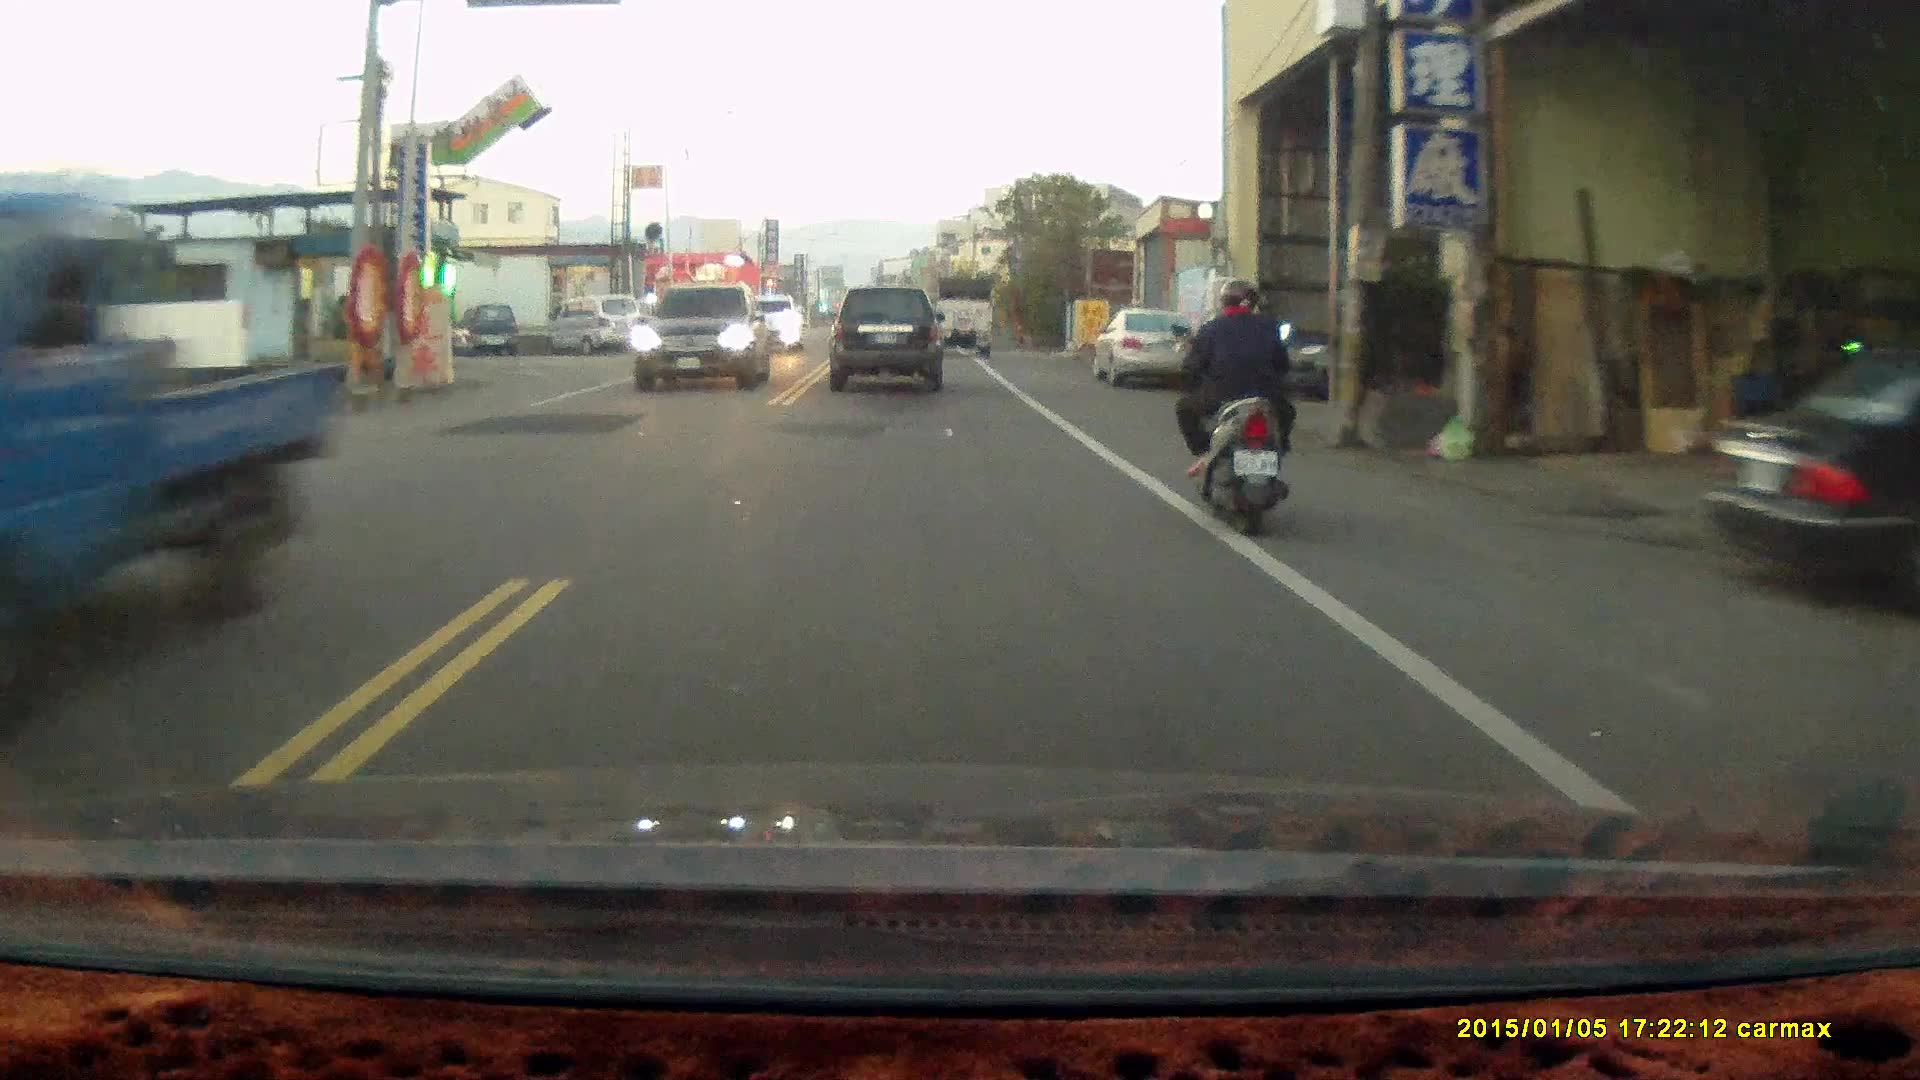rider: (1168, 273, 1298, 538)
vehicle: (1, 190, 349, 723), (1705, 343, 1918, 622), (632, 283, 777, 396), (828, 283, 946, 391), (1091, 306, 1195, 383), (550, 293, 643, 355), (927, 268, 997, 349)
